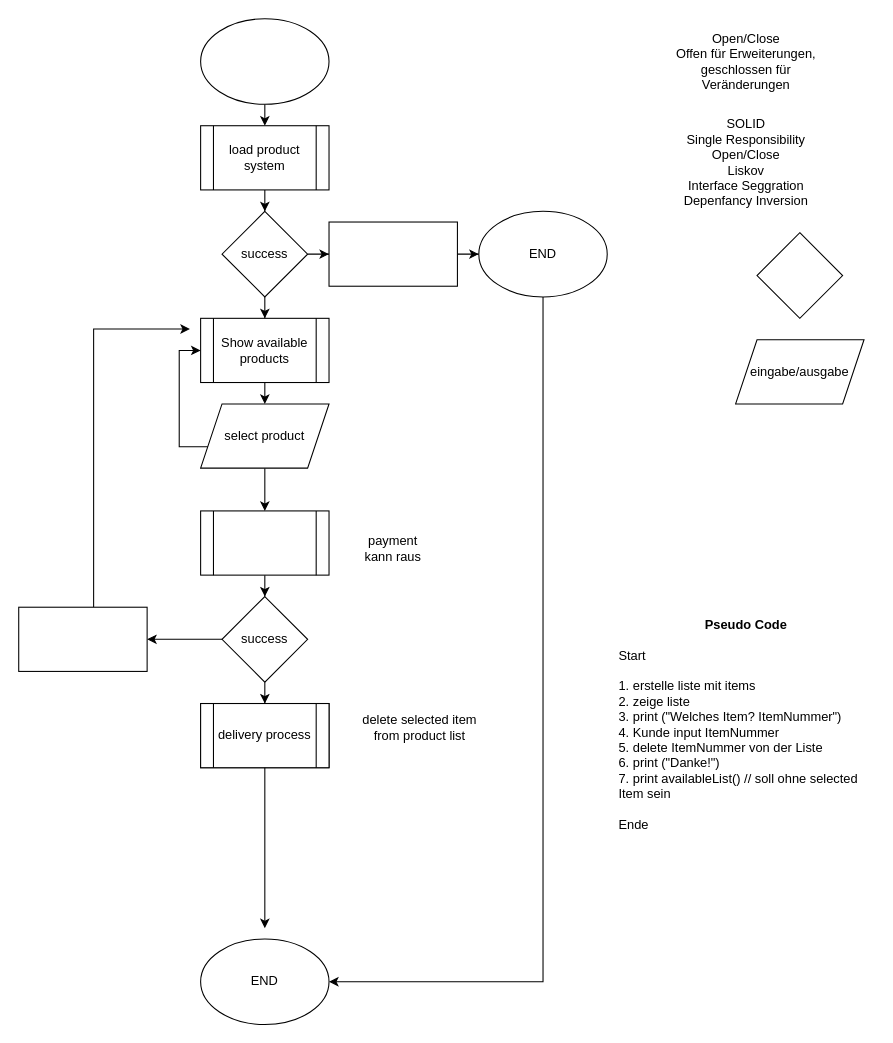
Some shapes in this 893 by 1043 pixel diagram are drawn without their labels. Each missing label, with the centre of its shape:
"Error" belongs at (392,253).
"if/else" belongs at (799,275).
"payment process" belongs at (264,542).
"show message" belongs at (82,638).
"START" belongs at (264,61).
